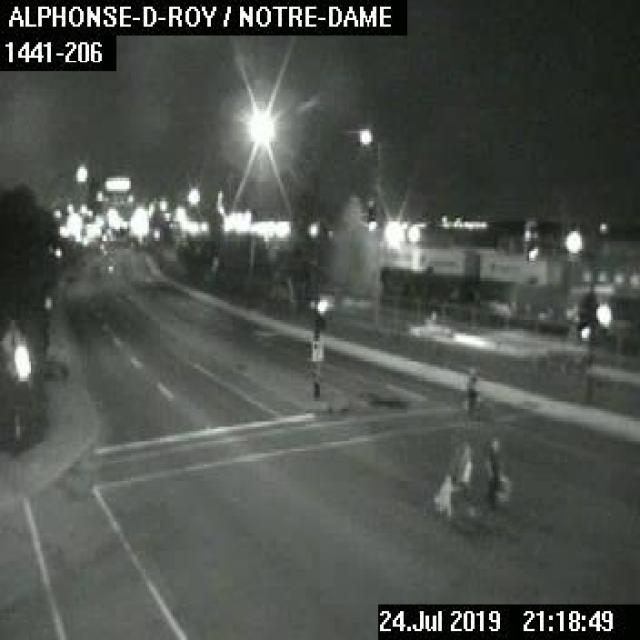pedestrian: (430, 439, 472, 512), (482, 438, 511, 507), (464, 364, 478, 414)
